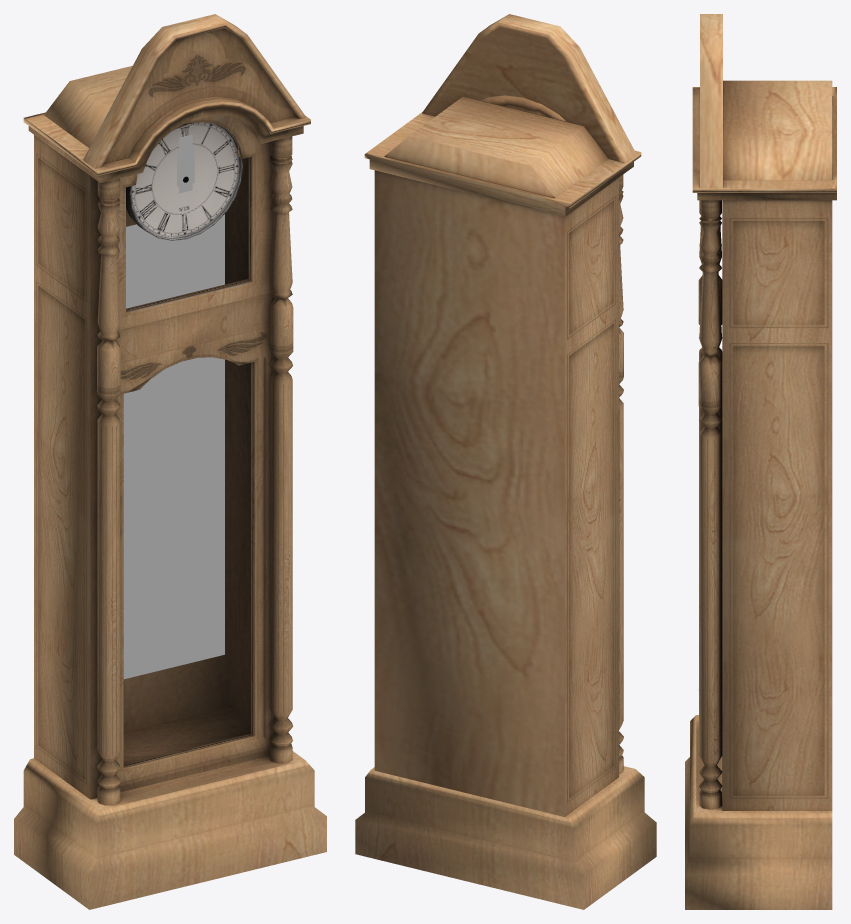
The model's file is standuhr_05.fbx.
The picture shows the model from 3 angles, left to right: view 1: azimuth 30°, elevation 25°; view 2: azimuth 150°, elevation 25°; view 3: azimuth 270°, elevation 25°; orthographic projection. The views are drawn at different scales.
Visible parts, largest first — view 1: standuhr_05, pendel, stundenzeiger; view 2: standuhr_05; view 3: standuhr_05.
Part boxes in pixels (left/top/right/bottom): standuhr_05: left=14, top=14, right=326, bottom=909; pendel: left=123, top=214, right=224, bottom=679; stundenzeiger: left=177, top=144, right=194, bottom=186; standuhr_05: left=355, top=14, right=656, bottom=909; standuhr_05: left=685, top=14, right=836, bottom=909.
Size of the model in its own units: 67.53 by 230 by 38.27.
